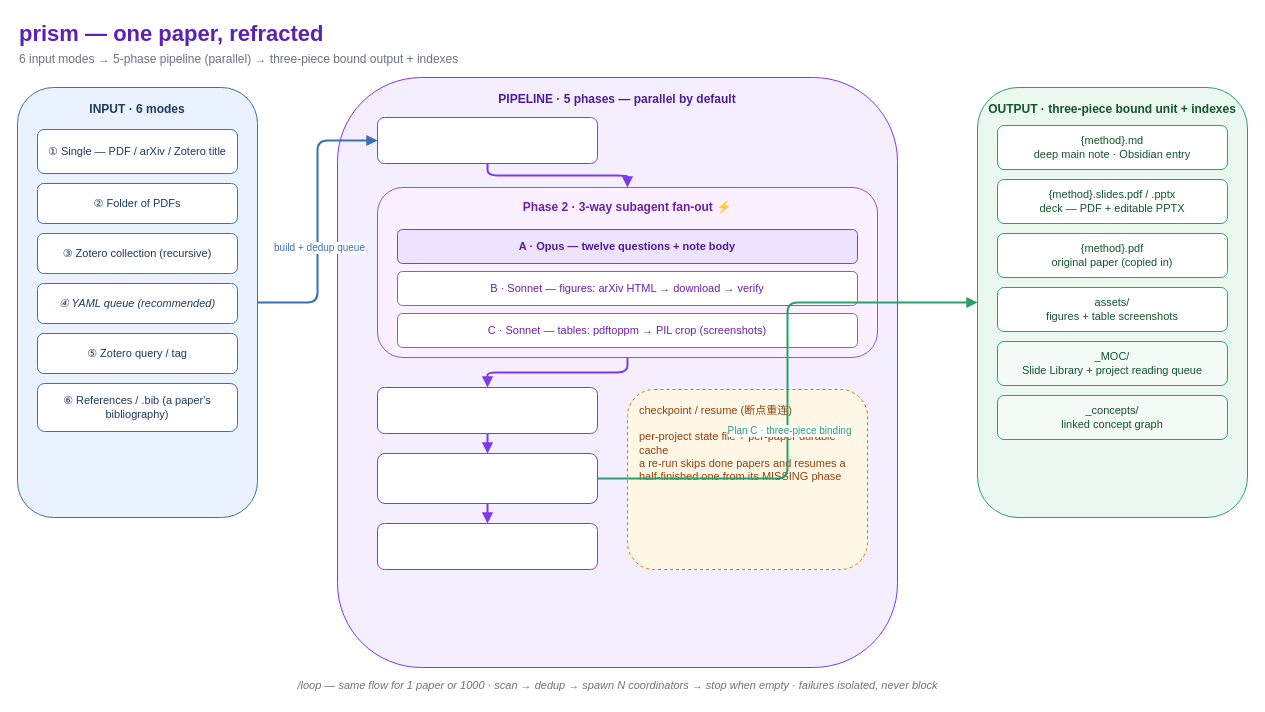
The diagram is 1265 pixels wide and 712 high, and some of its shapes have lost their labels. Here are the shapes that lost their labels. From the top down, the centre of each, then its label:
At point (487, 140): "1 · Setup method · arxiv_id · paths · mkdir".
At point (487, 410): "3 · Synthesize fill note + slide templates".
At point (487, 478): "4 · Render + bind ⚡ marp → PDF + PPTX · resources · MOCs".
At point (487, 546): "5 · Report verify · cleanup".
